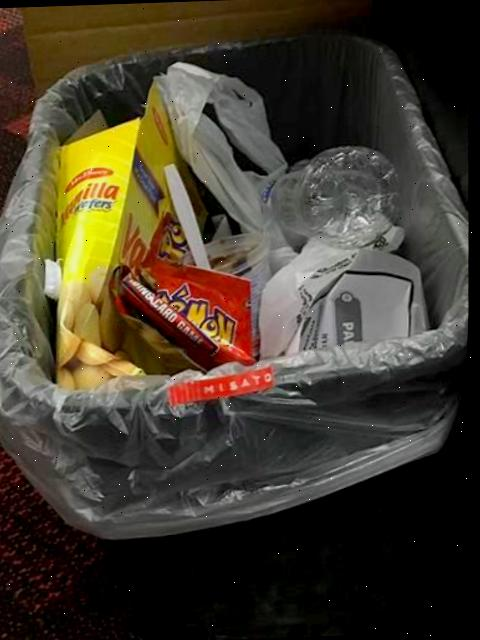Disposable: (208, 233, 274, 343)
Garbage: (48, 63, 431, 389)
Plastic_Bag: (158, 63, 289, 232)
Plastic_Straw: (167, 163, 213, 269)
Plastic_bottle: (264, 146, 399, 249)
Plastic_wraper: (113, 213, 257, 369)
